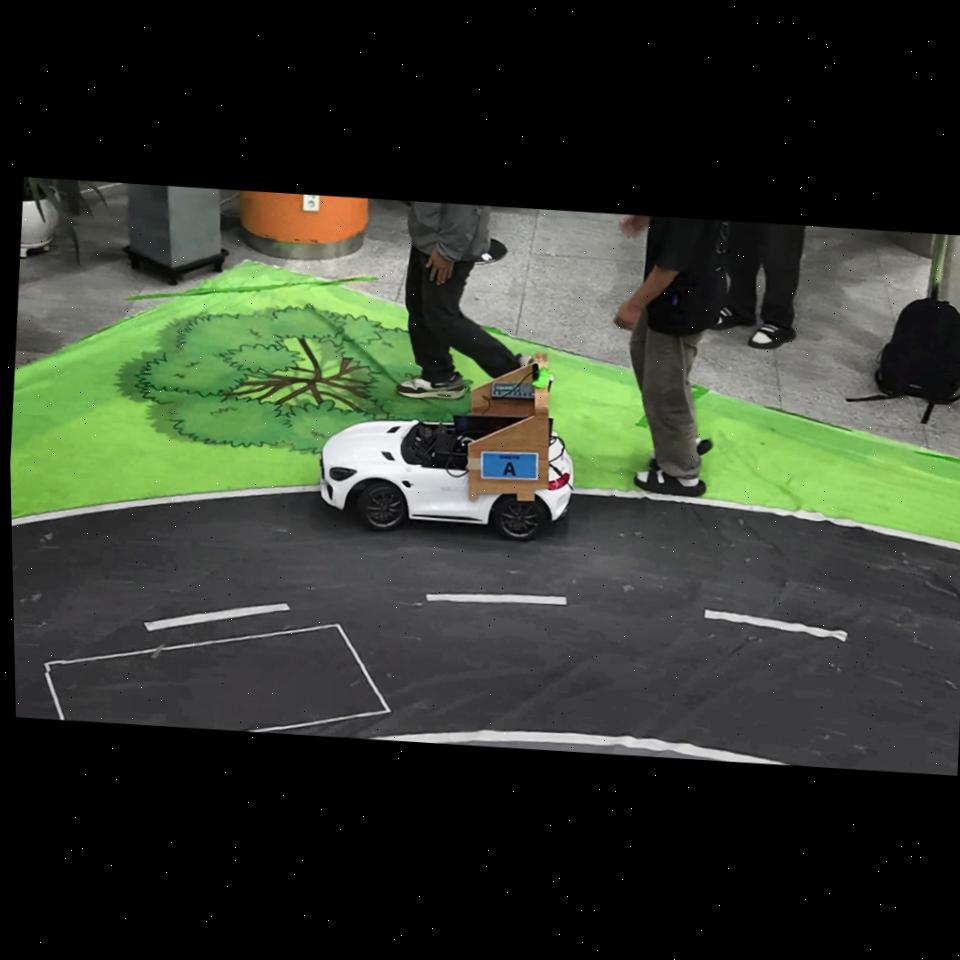broken_line: (704, 609, 848, 642), (144, 603, 291, 632), (425, 594, 567, 605)
